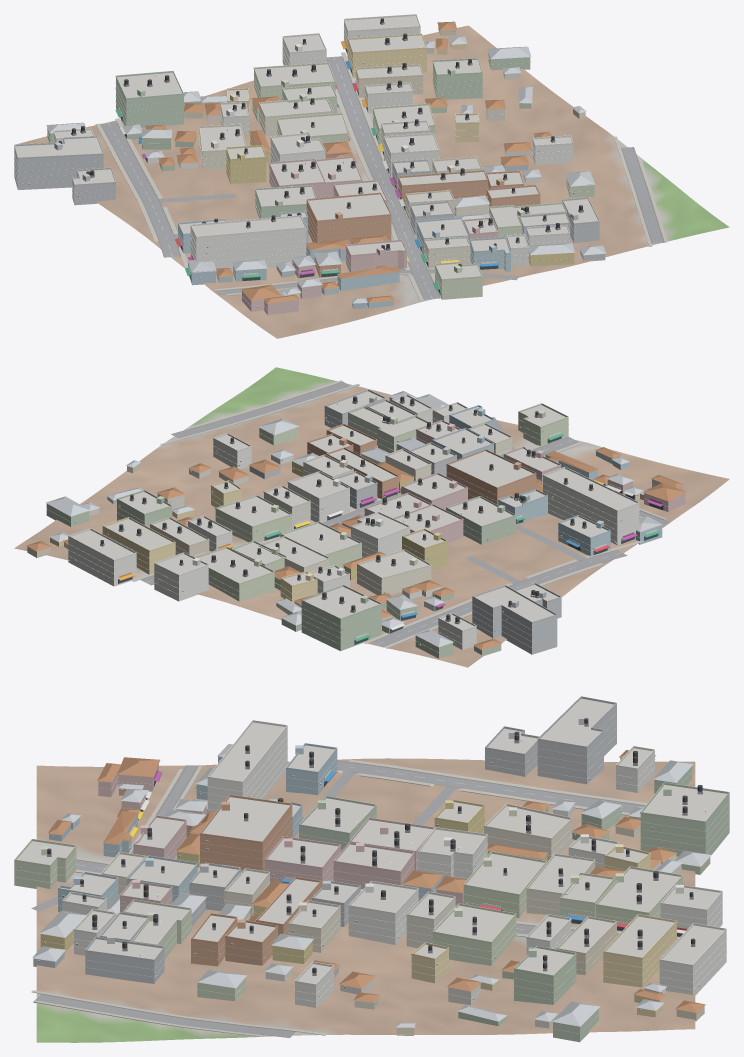
3 renders of one model, top to bottom at view 1: azimuth 30°, elevation 25°; view 2: azimuth 150°, elevation 25°; view 3: azimuth 270°, elevation 25°, orthographic. The views are drawn at different scales.
Visible parts, largest first — view 1: Buildings-col, Terrain-col, Details, Roads-col, Sidewalks-col; view 2: Buildings-col, Terrain-col, Details, Roads-col, Sidewalks-col; view 3: Buildings-col, Terrain-col, Details, Roads-col, Sidewalks-col.
Boxes of the visible parts, x1,y1,x2,y2 form: Buildings-col: (14,16,606,315); Terrain-col: (17,25,729,338); Details: (14,14,599,309); Roads-col: (100,56,664,299); Sidewalks-col: (95,52,667,299); Buildings-col: (26,391,686,658); Terrain-col: (14,367,729,667); Details: (47,389,685,652); Roads-col: (140,381,669,646); Sidewalks-col: (131,380,666,648); Buildings-col: (14,698,729,1042); Terrain-col: (36,758,695,1042); Details: (14,696,729,1033); Roads-col: (31,760,644,1037); Sidewalks-col: (31,759,679,1036).
Bounding box in the file's own units: 289 × 24.25 × 278.
